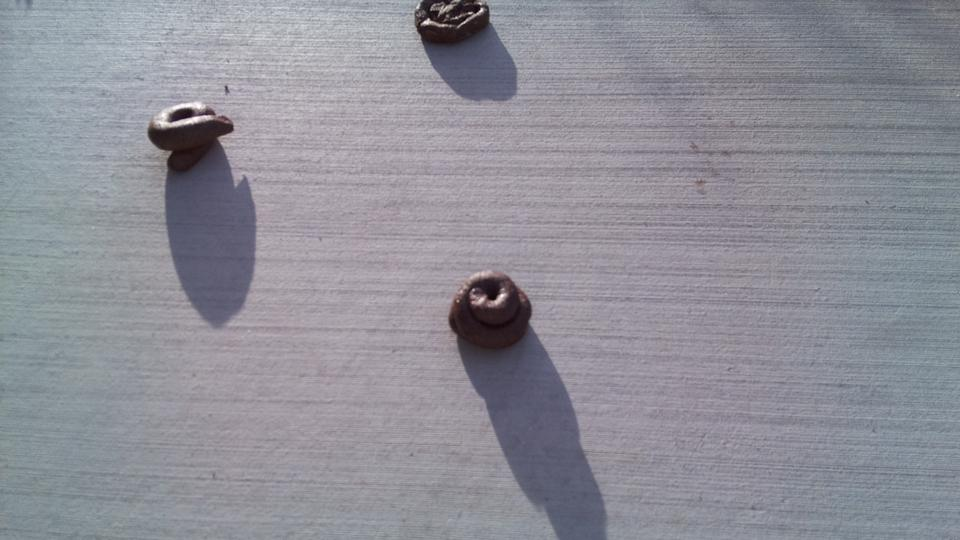poop: (444, 267, 537, 353), (145, 98, 238, 175), (412, 1, 493, 48)
